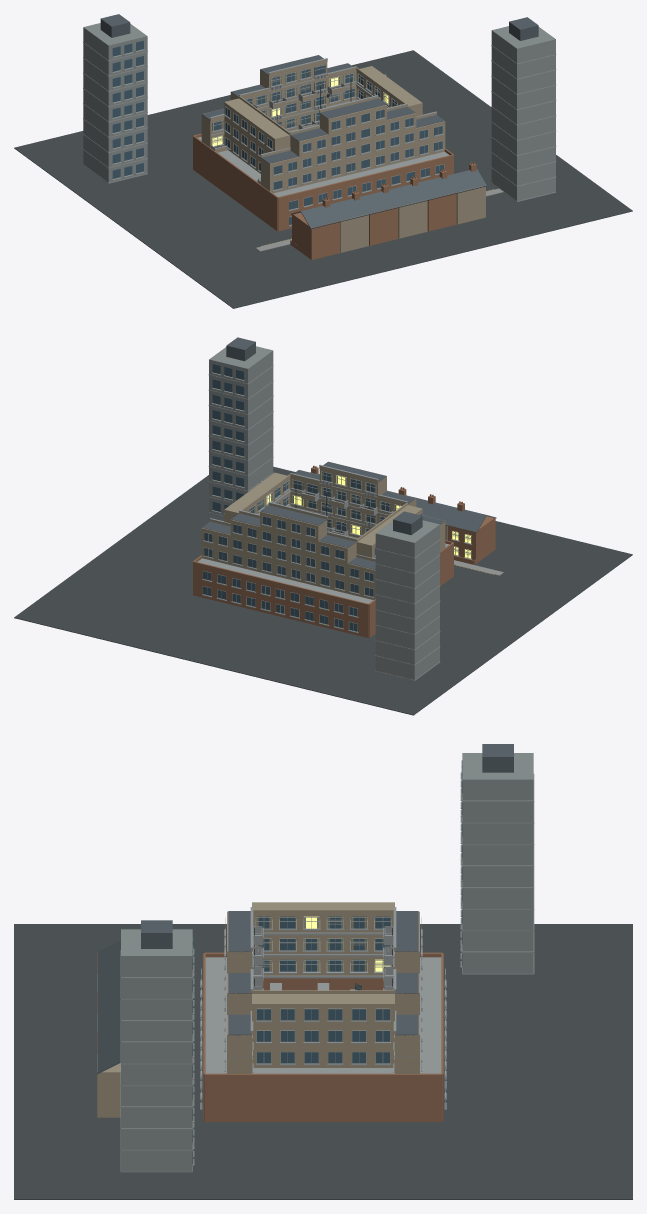
Rendered from onsite-heron-court.glb.
3 views of the same model, one above another, from view 1: azimuth 30°, elevation 25°; view 2: azimuth 150°, elevation 25°; view 3: azimuth 270°, elevation 25° (orthographic). The views are drawn at different scales.
Parts seen in each view (by area): view 1: Estate / asphalt, Estate / concrete, Estate / stock, Estate / brick, Estate / glass, Estate / roof, Estate / trim, Estate / fabric; view 2: Estate / asphalt, Estate / concrete, Estate / stock, Estate / glass, Estate / brick, Estate / trim, Estate / roof, Estate / fabric; view 3: Estate / asphalt, Estate / concrete, Estate / stock, Estate / brick, Estate / roof, Estate / glass, Estate / trim, Estate / fabric.
Boxes of the visible parts, left/top/right/bottom form: Estate / asphalt: left=14, top=50, right=632, bottom=308; Estate / concrete: left=83, top=23, right=556, bottom=226; Estate / stock: left=201, top=55, right=485, bottom=252; Estate / brick: left=193, top=133, right=476, bottom=259; Estate / glass: left=112, top=40, right=443, bottom=224; Estate / roof: left=100, top=14, right=538, bottom=228; Estate / trim: left=112, top=49, right=444, bottom=225; Estate / fabric: left=212, top=69, right=389, bottom=147; Estate / asphalt: left=14, top=466, right=632, bottom=715; Estate / concrete: left=197, top=346, right=472, bottom=680; Estate / stock: left=201, top=461, right=447, bottom=599; Estate / glass: left=203, top=364, right=421, bottom=631; Estate / brick: left=193, top=465, right=495, bottom=637; Estate / trim: left=202, top=372, right=471, bottom=632; Estate / roof: left=202, top=337, right=496, bottom=569; Estate / fabric: left=250, top=472, right=396, bottom=534; Estate / asphalt: left=14, top=924, right=632, bottom=1199; Estate / concrete: left=120, top=753, right=534, bottom=1172; Estate / stock: left=97, top=902, right=419, bottom=1117; Estate / brick: left=97, top=952, right=443, bottom=1121; Estate / roof: left=96, top=744, right=513, bottom=1074; Estate / glass: left=192, top=760, right=462, bottom=1163; Estate / trim: left=192, top=772, right=462, bottom=1165; Estate / fabric: left=256, top=917, right=366, bottom=971.
Bounding box in the file's own units: 82 × 32.6 × 78.
